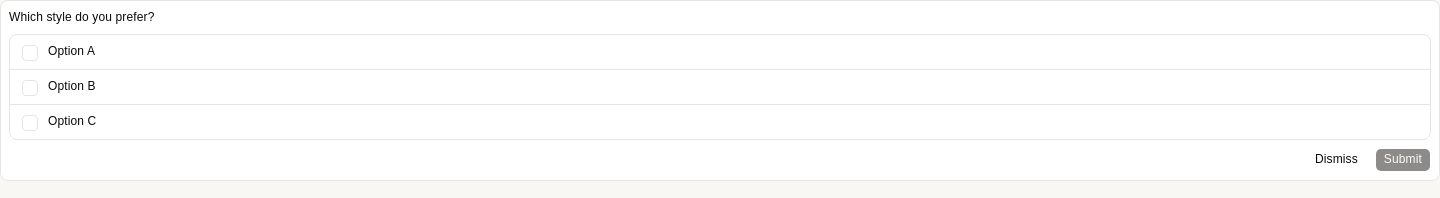
Scenario: ChatPendingQuestion › multi-select: Submit becomes enabled after selecting at least one option
Expected: the button "Submit" is disabled, [1375,148,1431,172]
Click the text "Option B" at (72, 86), box [48,78,96,94]
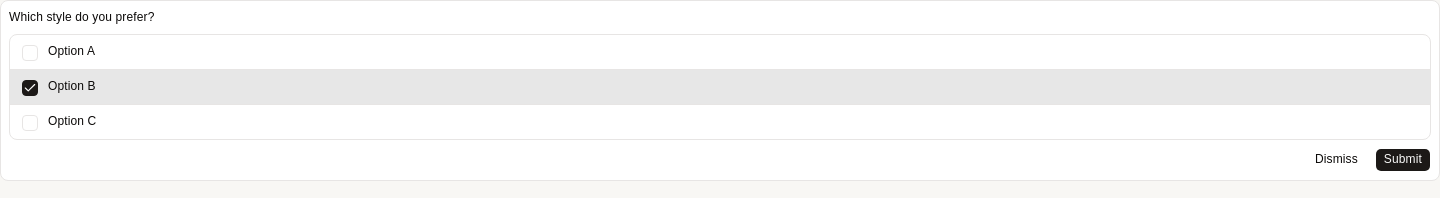
Result: the button "Submit" is enabled at [1375,148,1431,172]
